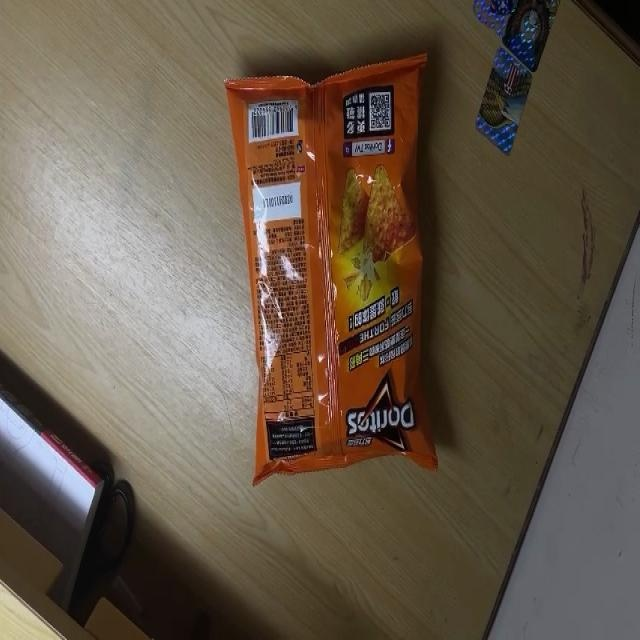Doritos: (223, 49, 441, 486)
